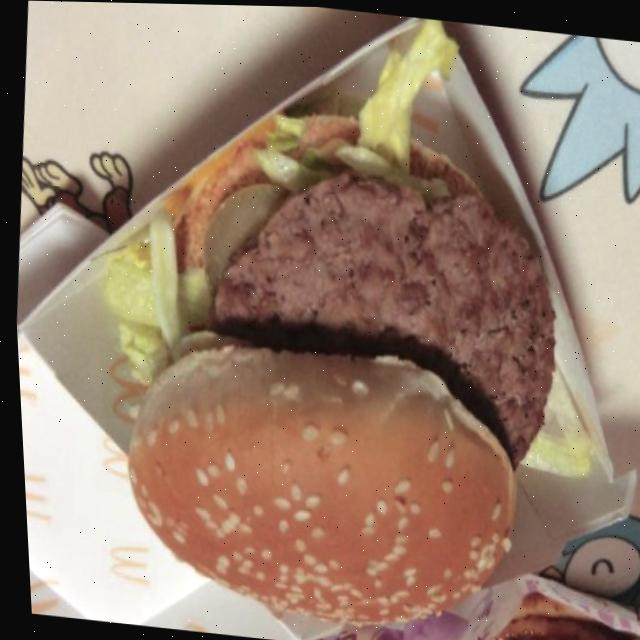汉堡快餐: (44, 1, 637, 640)
